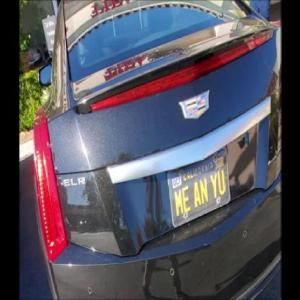Plate: (167, 149, 231, 229)
